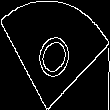O_SW: (31, 22, 79, 88)
